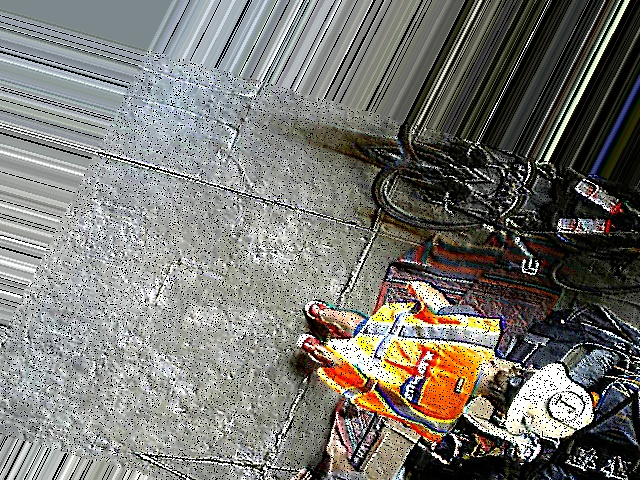one: (544, 387, 591, 424)
